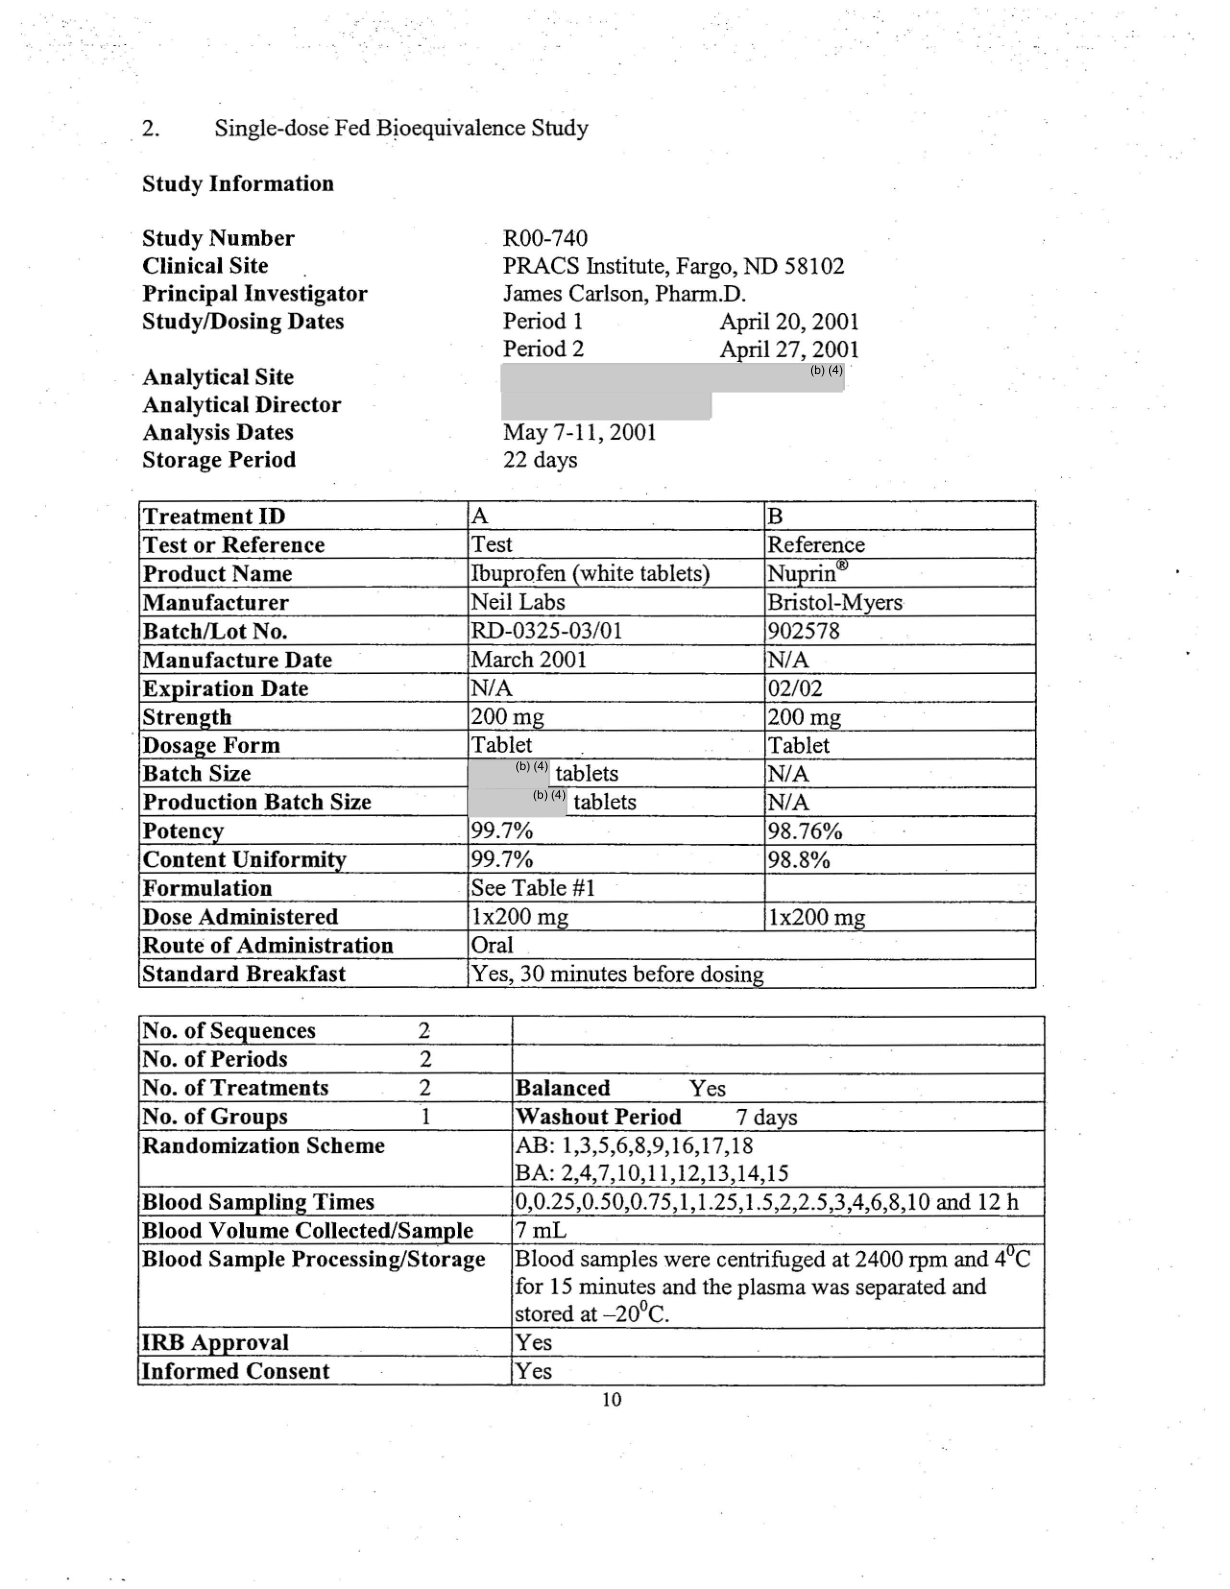full_lined: (135, 499, 1038, 991), (137, 1014, 1047, 1388)
nolines: (137, 170, 863, 475)
